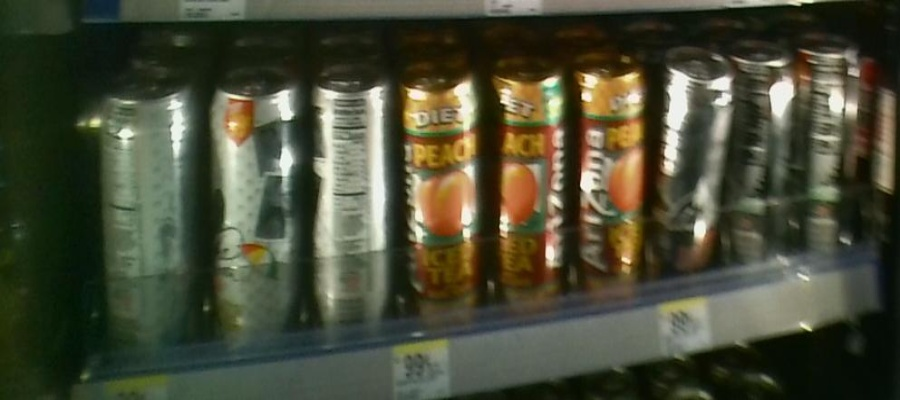bottle: (204, 66, 312, 350), (98, 64, 199, 366), (394, 62, 482, 343), (313, 64, 391, 350), (570, 31, 646, 309), (650, 40, 735, 281), (490, 49, 563, 320), (798, 21, 863, 276), (736, 30, 797, 281)
